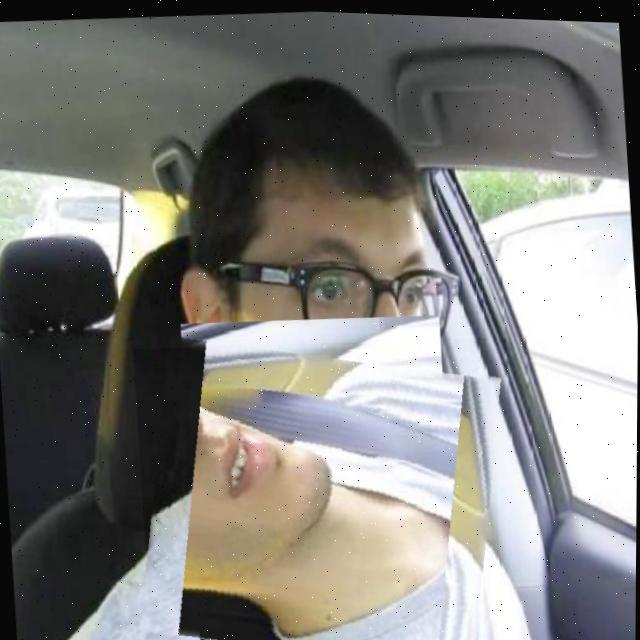seatbelt: (131, 323, 509, 640)
